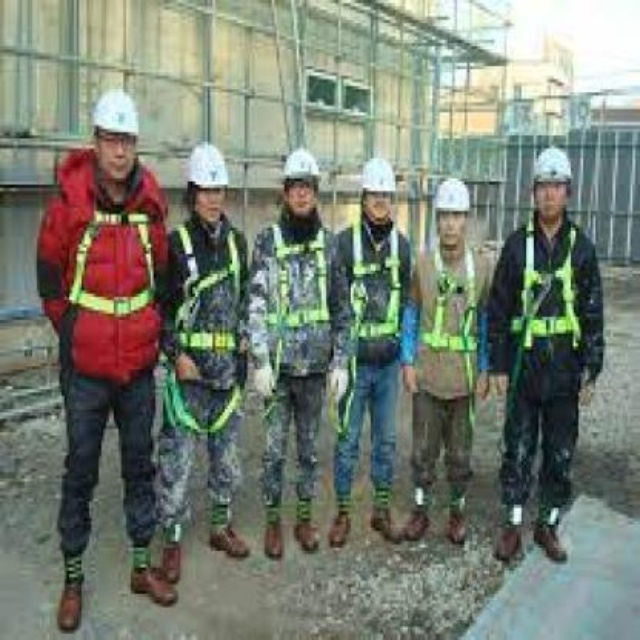Arnes_seguridad: (67, 179, 162, 357), (171, 222, 247, 444), (503, 215, 583, 386), (267, 214, 337, 405), (422, 249, 479, 408), (346, 219, 404, 372)
